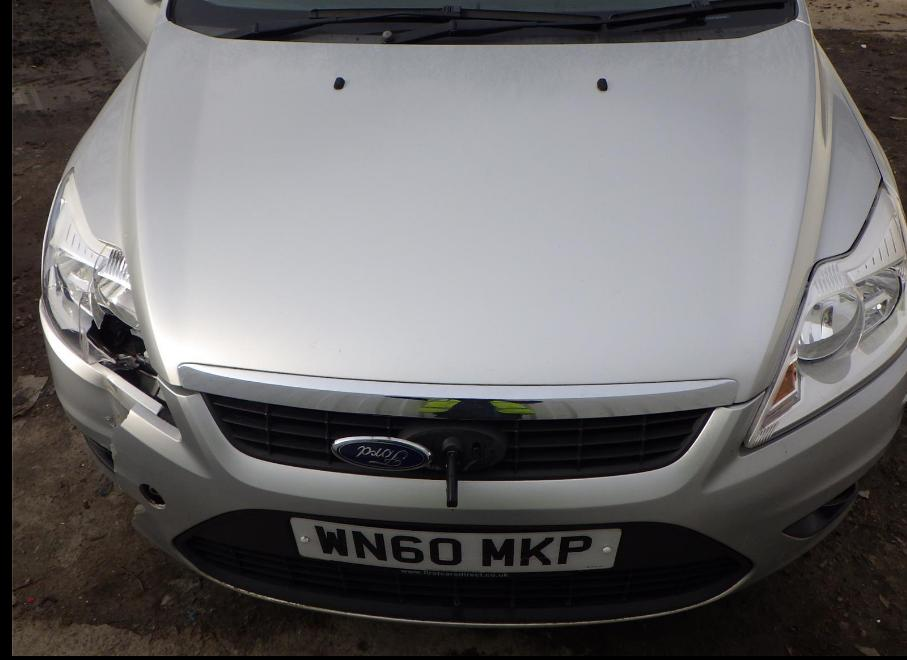Fender: (815, 38, 903, 206), (60, 45, 147, 179)
Front-bumper: (38, 299, 906, 627)
Front-door: (90, 0, 162, 80)
Grille: (201, 394, 714, 482)
Headlight: (741, 181, 907, 452), (40, 168, 159, 403)
Hood: (72, 17, 882, 422)
License-plate: (292, 518, 622, 575)
Windshield: (166, 1, 797, 46)
